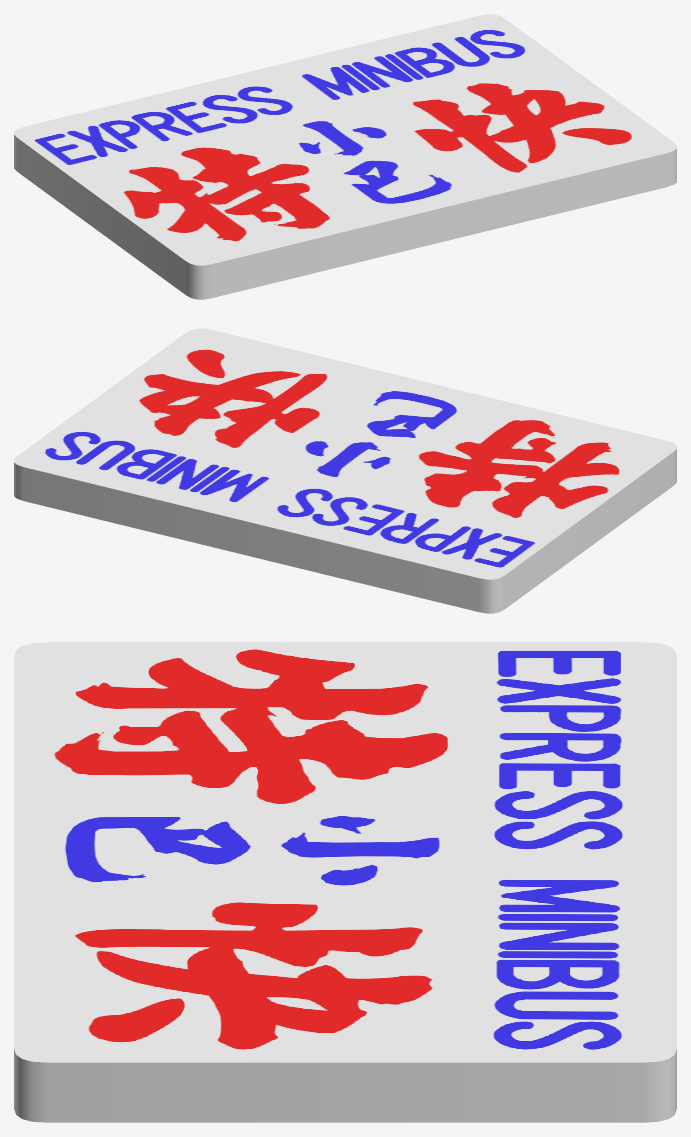
The model's file is minibus.fbx.
The picture shows the model from 3 angles, top to bottom: view 1: azimuth 30°, elevation 25°; view 2: azimuth 150°, elevation 25°; view 3: azimuth 270°, elevation 25°; orthographic projection. The views are drawn at different scales.
Parts seen in each view (by area): view 1: Box001; view 2: Box001; view 3: Box001.
Boxes of the visible parts, x1,y1,x2,y2 form: Box001: [14, 14, 676, 299]; Box001: [14, 328, 676, 613]; Box001: [14, 642, 676, 1122].
Size of the model in its own units: 60 by 4 by 40.
2 materials, 1 textured.
